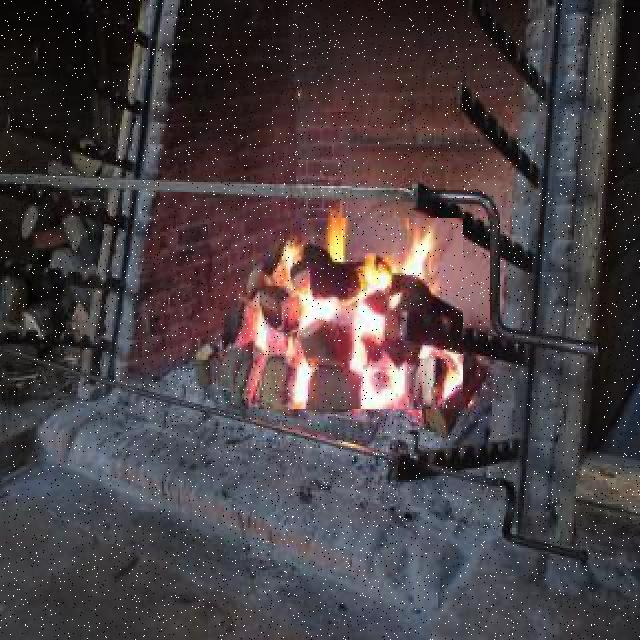fire: (231, 218, 463, 409)
